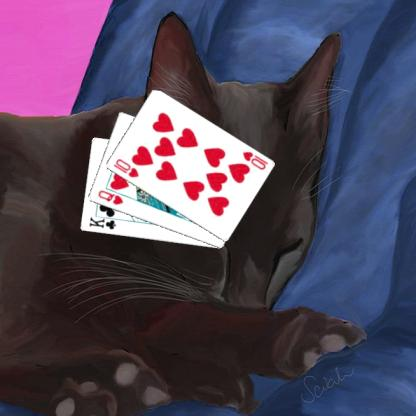10H: (239, 149, 269, 172), (111, 156, 140, 179)
KC: (87, 212, 120, 231)
QH: (95, 188, 124, 206)
